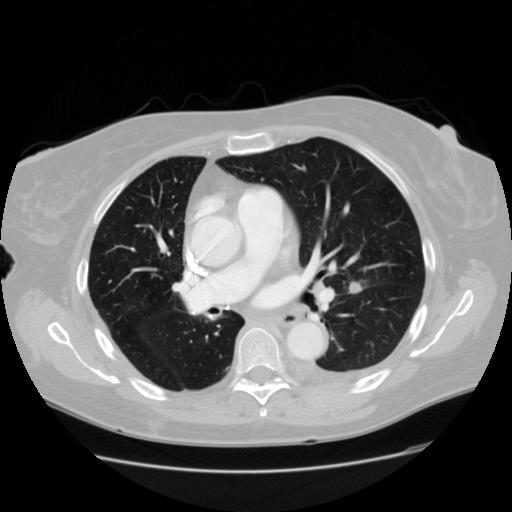nodule: (345, 280, 364, 299)
